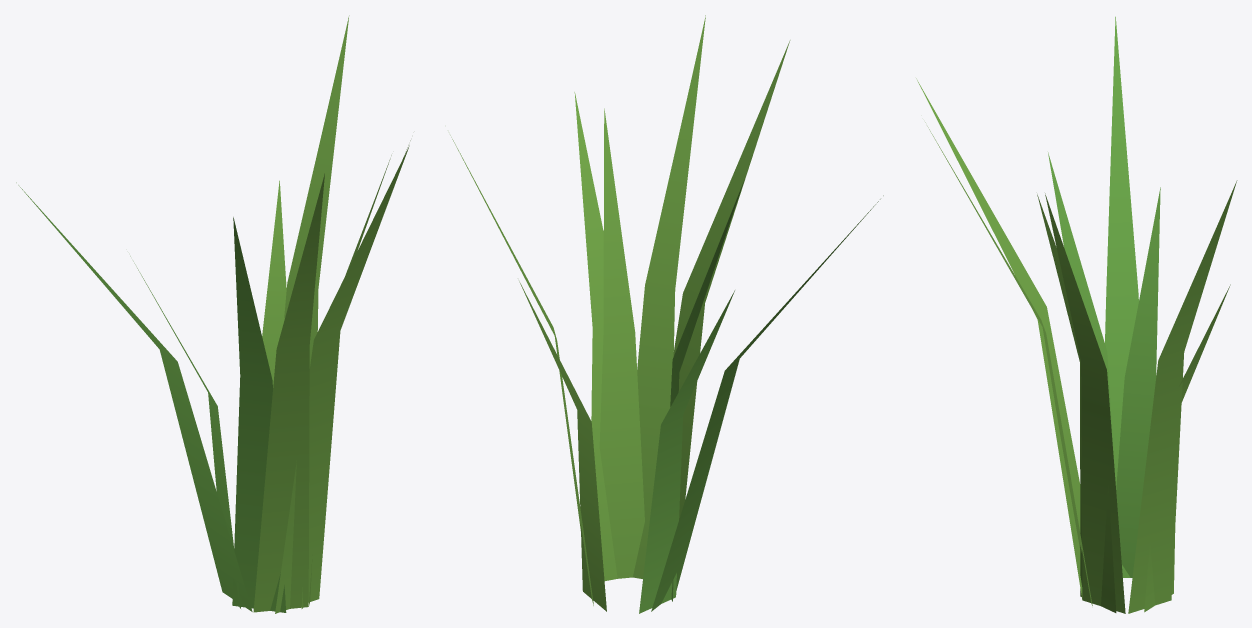
The model's file is gras_1.obj.
3 views of the same model, side by side, from view 1: azimuth 30°, elevation 25°; view 2: azimuth 150°, elevation 25°; view 3: azimuth 270°, elevation 25° (orthographic). The views are drawn at different scales.
Parts seen in each view (by area): view 1: gras_1_Koerper; view 2: gras_1_Koerper; view 3: gras_1_Koerper.
Part boxes in pixels (x1,y1,x2,y2): gras_1_Koerper: [16, 15, 410, 613]; gras_1_Koerper: [450, 15, 883, 613]; gras_1_Koerper: [916, 16, 1237, 613].
Size of the model in its own units: 0.57 by 0.7111 by 0.419.
